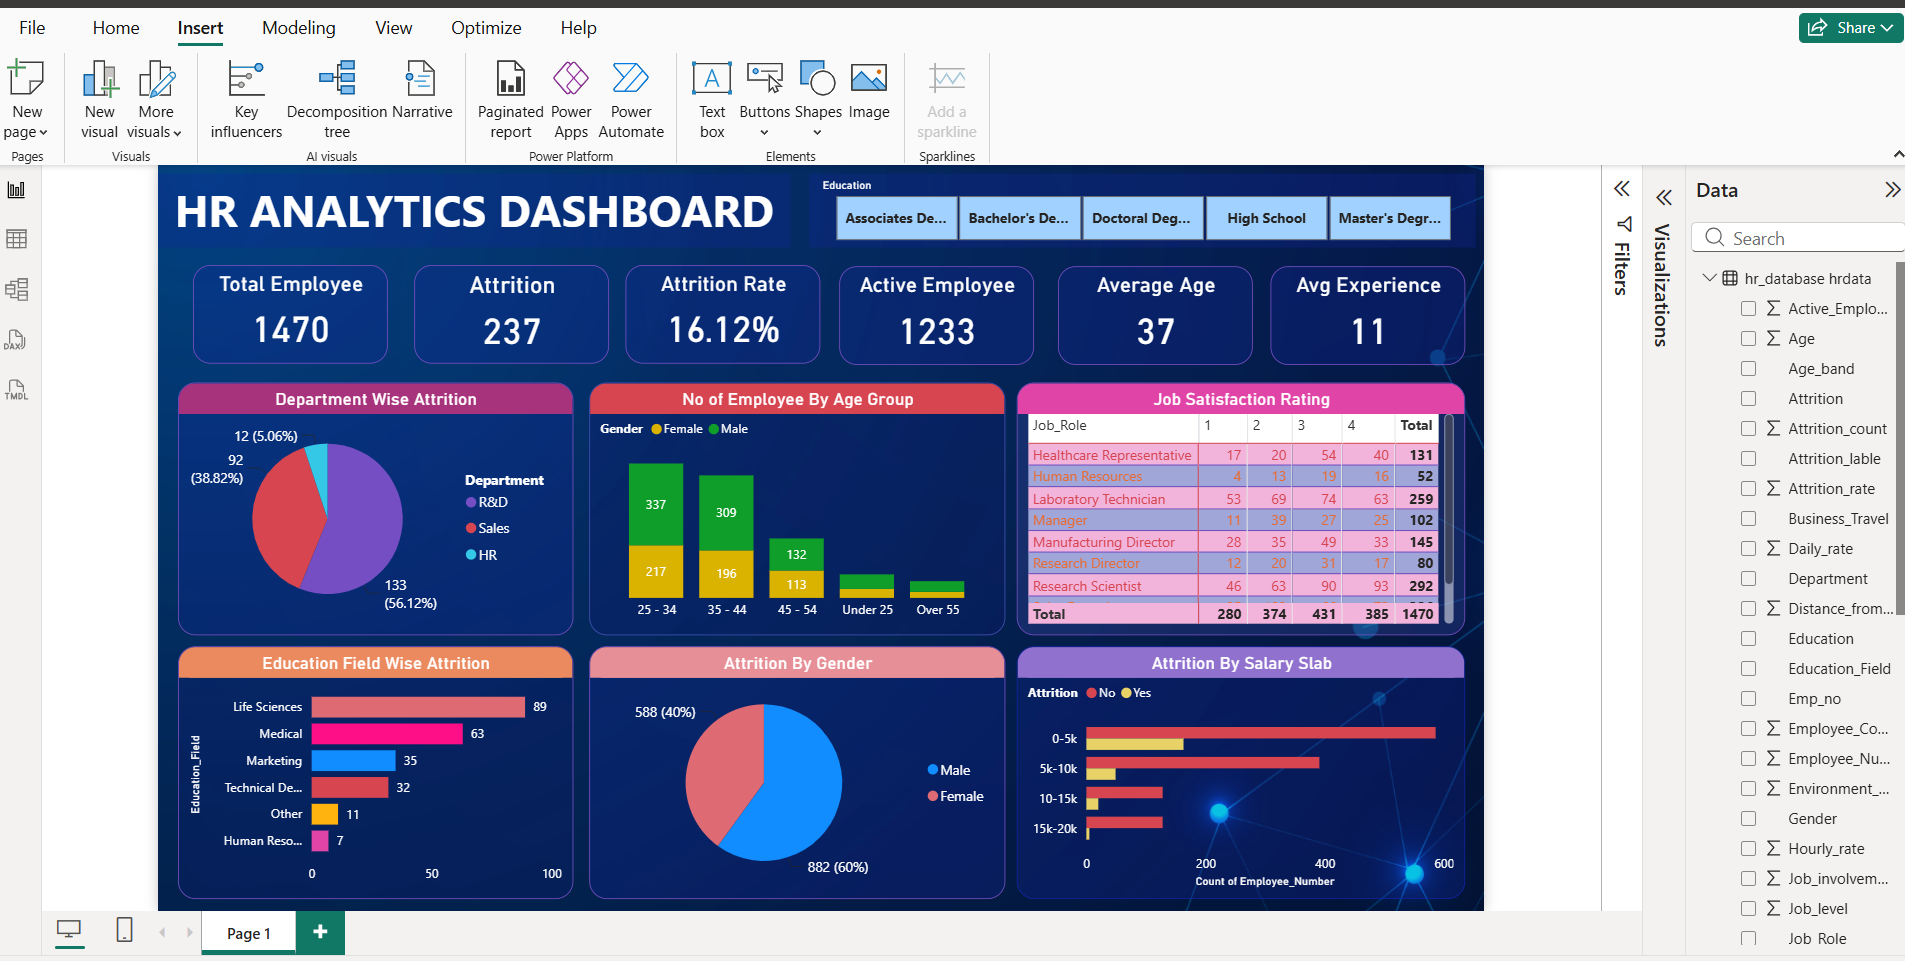

The page's visual inventory and layout, read from the dashboard file:
{"tool":"powerbi","page":{"name":"Page 1","canvas":[1280,720],"ordinal":0},"visuals":[{"type":"card","title":"Attrition","fields":{"Values":["Sum(hr_database hrdata.Attrition_count)"]},"box":[247.3,96.5,188.2,95.3],"z":0},{"type":"card","title":"Attrition Rate","fields":{"Values":["hr_database hrdata.Measure"]},"box":[451.2,96.5,188.2,95.3],"z":1000},{"type":"card","title":"Active Employee","fields":{"Values":["Sum(hr_database hrdata.Active_Employee)"]},"box":[657.5,97.7,188.2,95.3],"z":2000},{"type":"card","title":"Average Age","fields":{"Values":["Avg(hr_database hrdata.Age)"]},"box":[868.6,97.7,188.2,95.3],"z":3000},{"type":"card","title":"Total Employee","fields":{"Values":["Sum(hr_database hrdata.Employee_Count)"]},"box":[33.8,96.5,188.2,95.3],"z":4000},{"type":"pieChart","title":"Department Wise Attrition","fields":{"Category":["hr_database hrdata.Department"],"Y":["Sum(hr_database hrdata.Attrition_count)"]},"box":[19.3,209.9,381.2,243.7],"z":5000},{"type":"columnChart","title":"No of Employee By Age Group","fields":{"Category":["hr_database hrdata.Age_band"],"Y":["Sum(hr_database hrdata.Employee_Count)"],"Series":["hr_database hrdata.Gender"]},"box":[416.2,209.9,401.7,243.7],"z":6000},{"type":"pivotTable","title":"Job Satisfaction Rating","fields":{"Rows":["hr_database hrdata.Job_Role"],"Columns":["hr_database hrdata.Job_Satisfaction"],"Values":["Sum(hr_database hrdata.Employee_Count)"]},"box":[828.8,209.9,433.1,243.7],"z":7000},{"type":"barChart","title":"Education Field Wise Attrition","fields":{"Category":["hr_database hrdata.Education_Field"],"Y":["Sum(hr_database hrdata.Attrition_count)"]},"box":[19.3,464.5,381.2,243.7],"z":8000},{"type":"card","title":"Avg Experience","fields":{"Values":["Avg(hr_database hrdata.Total_working_years)"]},"box":[1073.7,97.7,188.2,95.3],"z":8001},{"type":"pieChart","title":"Attrition By Gender","fields":{"Y":["CountNonNull(hr_database hrdata.Attrition)"],"Category":["hr_database hrdata.Gender"]},"box":[416.2,464.5,401.7,243.7],"z":8002},{"type":"clusteredBarChart","title":"Attrition By Salary Slab","fields":{"Category":["hr_database hrdata.Salary Slab"],"Y":["CountNonNull(hr_database hrdata.Employee_Number)"],"Series":["hr_database hrdata.Attrition"]},"box":[828.8,464.5,433.1,243.7],"z":8003},{"type":"textbox","box":[0,8.4,610.5,71.2],"z":8004},{"type":"slicer","fields":{"Values":["hr_database hrdata.Education"]},"box":[628.6,8.4,643,71.2],"z":8005}]}

Visuals, with their boxes on the page's 1280x720 design canvas (x1, y1, x2, y2). These are canvas units, not pixel positions in the 1905x961 screenshot, which may show the page scaled, cropped or inside an application window:
"Attrition" card: (left=247, top=96, right=436, bottom=192)
"Attrition Rate" card: (left=451, top=96, right=639, bottom=192)
"Active Employee" card: (left=658, top=98, right=846, bottom=193)
"Average Age" card: (left=869, top=98, right=1057, bottom=193)
"Total Employee" card: (left=34, top=96, right=222, bottom=192)
"Department Wise Attrition" pieChart: (left=19, top=210, right=400, bottom=454)
"No of Employee By Age Group" columnChart: (left=416, top=210, right=818, bottom=454)
"Job Satisfaction Rating" pivotTable: (left=829, top=210, right=1262, bottom=454)
"Education Field Wise Attrition" barChart: (left=19, top=464, right=400, bottom=708)
"Avg Experience" card: (left=1074, top=98, right=1262, bottom=193)
"Attrition By Gender" pieChart: (left=416, top=464, right=818, bottom=708)
"Attrition By Salary Slab" clusteredBarChart: (left=829, top=464, right=1262, bottom=708)
textbox: (left=0, top=8, right=610, bottom=80)
slicer - hr_database hrdata.Education: (left=629, top=8, right=1272, bottom=80)
